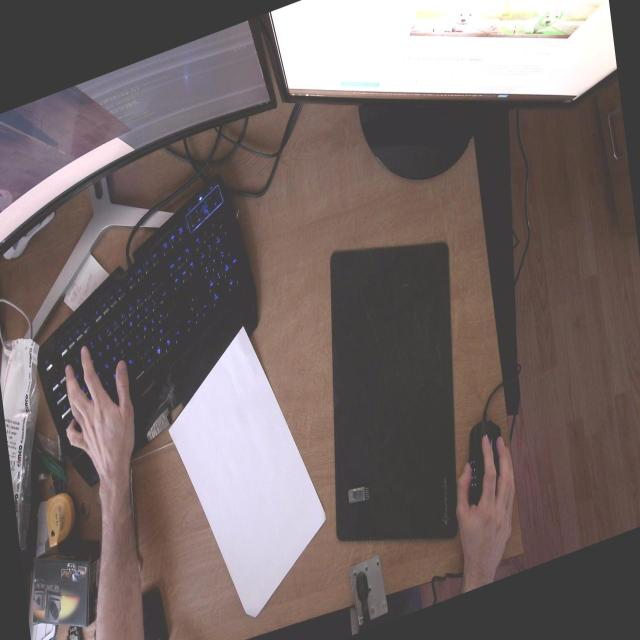keyboard-with-hands: (32, 170, 267, 499)
